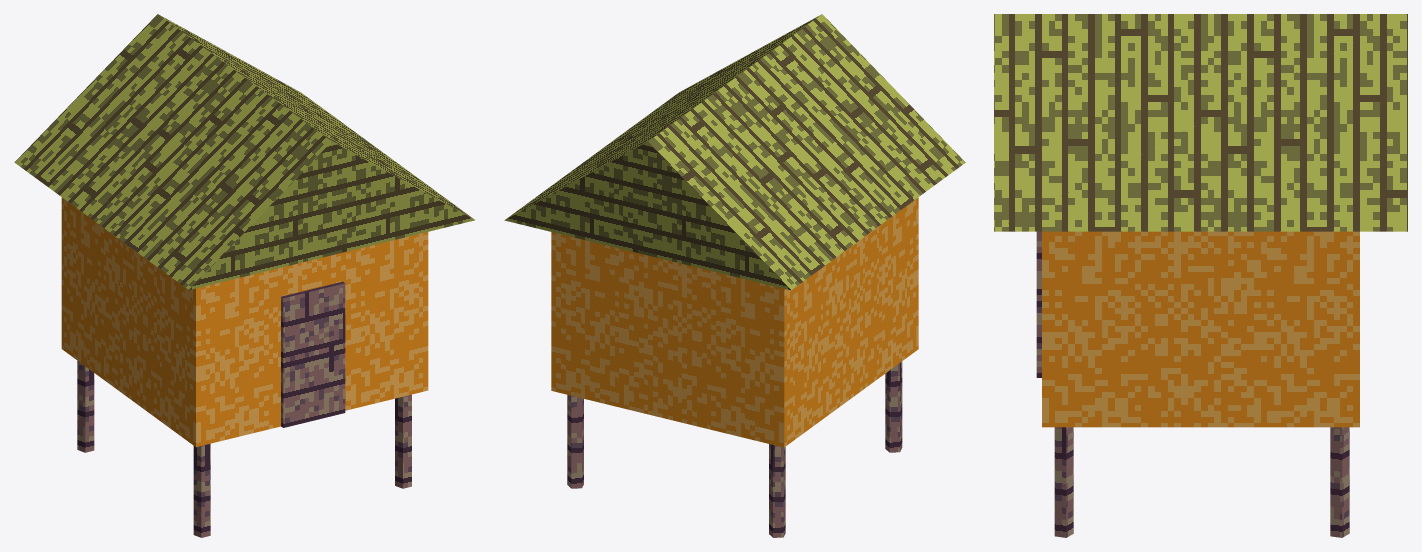
Rendered from porto_arquipelago_casa_palafita_2.glb.
The picture shows the model from 3 angles, left to right: view 1: azimuth 30°, elevation 25°; view 2: azimuth 150°, elevation 25°; view 3: azimuth 270°, elevation 25°; orthographic projection. The views are drawn at different scales.
Visible parts, largest first — view 1: porto_arquipelago_casa_palafita_2; view 2: porto_arquipelago_casa_palafita_2; view 3: porto_arquipelago_casa_palafita_2.
Boxes of the visible parts, box(x1,y1,x2,y2) form: porto_arquipelago_casa_palafita_2: box(14, 14, 474, 537); porto_arquipelago_casa_palafita_2: box(504, 14, 965, 537); porto_arquipelago_casa_palafita_2: box(994, 14, 1407, 537).
Size of the model in its own units: 3.7 by 4.8 by 3.9.
Materials: 3 (3 with a texture image).
